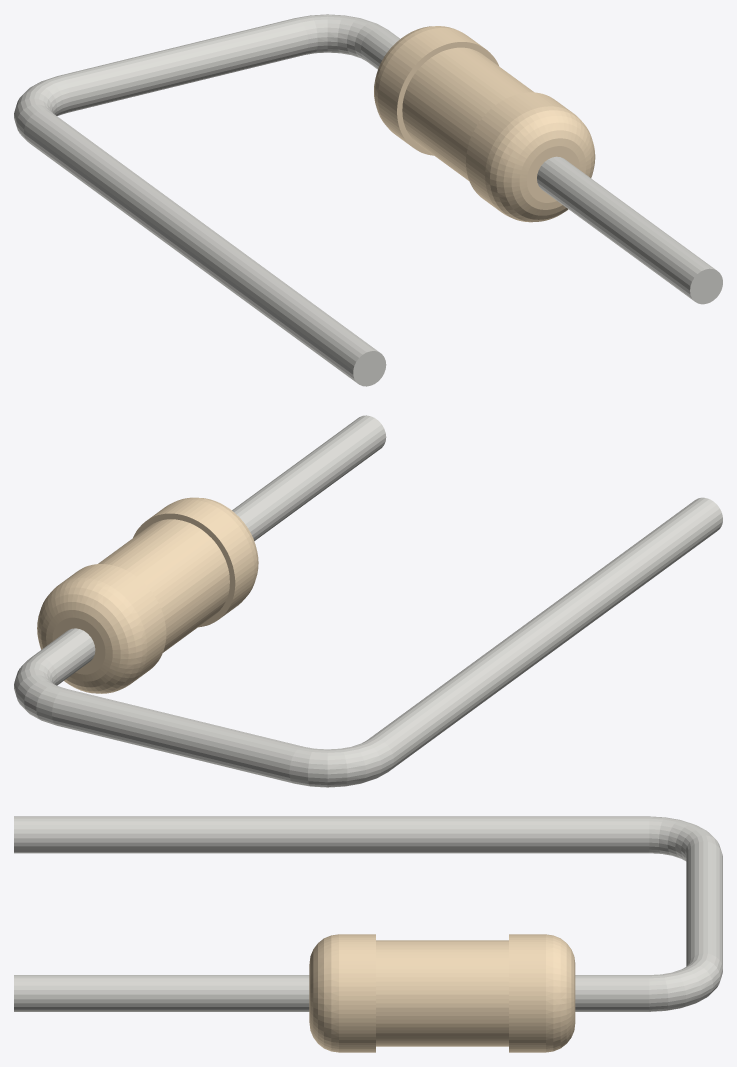
File: R_Axial_DIN0204_L3.6mm_D1.6mm_P5.08mm_Vertical.glb
3 renders of one model, top to bottom at view 1: azimuth 30°, elevation 25°; view 2: azimuth 150°, elevation 25°; view 3: azimuth 270°, elevation 25°, orthographic. The views are drawn at different scales.
Visible parts, largest first — view 1: Shape_IndexedFaceSet.015, Shape_IndexedFaceSet.013, Shape_IndexedFaceSet.004, Shape_IndexedFaceSet.005, Shape_IndexedFaceSet.001, Shape_IndexedFaceSet, Shape_IndexedFaceSet.008, Shape_IndexedFaceSet.012, Shape_IndexedFaceSet.014, Shape_IndexedFaceSet.006, Shape_IndexedFaceSet.003, Shape_IndexedFaceSet.011 (+3 smaller); view 2: Shape_IndexedFaceSet.015, Shape_IndexedFaceSet.013, Shape_IndexedFaceSet.004, Shape_IndexedFaceSet.009, Shape_IndexedFaceSet.005, Shape_IndexedFaceSet.014, Shape_IndexedFaceSet, Shape_IndexedFaceSet.008, Shape_IndexedFaceSet.012, Shape_IndexedFaceSet.011, Shape_IndexedFaceSet.002, Shape_IndexedFaceSet.010 (+1 smaller); view 3: Shape_IndexedFaceSet.015, Shape_IndexedFaceSet.004, Shape_IndexedFaceSet.005, Shape_IndexedFaceSet, Shape_IndexedFaceSet.008, Shape_IndexedFaceSet.013, Shape_IndexedFaceSet.001, Shape_IndexedFaceSet.009, Shape_IndexedFaceSet.012, Shape_IndexedFaceSet.011, Shape_IndexedFaceSet.014.
Part boxes in pixels (box(x1,y1,x2,y2)): Shape_IndexedFaceSet.015: box(24, 110, 379, 383); Shape_IndexedFaceSet.013: box(58, 18, 308, 112); Shape_IndexedFaceSet.004: box(402, 47, 533, 180); Shape_IndexedFaceSet.005: box(537, 156, 716, 300); Shape_IndexedFaceSet.001: box(485, 106, 595, 222); Shape_IndexedFaceSet: box(466, 92, 572, 210); Shape_IndexedFaceSet.008: box(378, 28, 484, 146); Shape_IndexedFaceSet.012: box(295, 14, 385, 60); Shape_IndexedFaceSet.014: box(14, 76, 70, 140); Shape_IndexedFaceSet.006: box(397, 42, 498, 155); Shape_IndexedFaceSet.003: box(527, 146, 579, 202); Shape_IndexedFaceSet.011: box(361, 28, 399, 69); Shape_IndexedFaceSet.015: box(368, 497, 722, 770); Shape_IndexedFaceSet.013: box(52, 688, 302, 783); Shape_IndexedFaceSet.004: box(98, 519, 229, 652); Shape_IndexedFaceSet.009: box(37, 578, 147, 693); Shape_IndexedFaceSet.005: box(232, 415, 386, 540); Shape_IndexedFaceSet.014: box(289, 738, 393, 787); Shape_IndexedFaceSet: box(148, 499, 254, 617); Shape_IndexedFaceSet.008: box(60, 564, 166, 682); Shape_IndexedFaceSet.012: box(14, 656, 65, 725); Shape_IndexedFaceSet.011: box(31, 628, 95, 685); Shape_IndexedFaceSet.002: box(133, 513, 235, 627); Shape_IndexedFaceSet.010: box(52, 617, 105, 674); Shape_IndexedFaceSet.015: box(14, 816, 649, 853); Shape_IndexedFaceSet.004: box(376, 940, 508, 1046); Shape_IndexedFaceSet.005: box(14, 975, 309, 1011); Shape_IndexedFaceSet: box(339, 934, 375, 1052); Shape_IndexedFaceSet.008: box(509, 934, 545, 1052); Shape_IndexedFaceSet.013: box(686, 841, 722, 966); Shape_IndexedFaceSet.001: box(309, 934, 338, 1052); Shape_IndexedFaceSet.009: box(546, 934, 575, 1052); Shape_IndexedFaceSet.012: box(649, 953, 722, 1011); Shape_IndexedFaceSet.011: box(575, 975, 649, 1011); Shape_IndexedFaceSet.014: box(649, 816, 721, 861).
Size of the model in its own units: 2.41 by 0.63 by 3.78.
